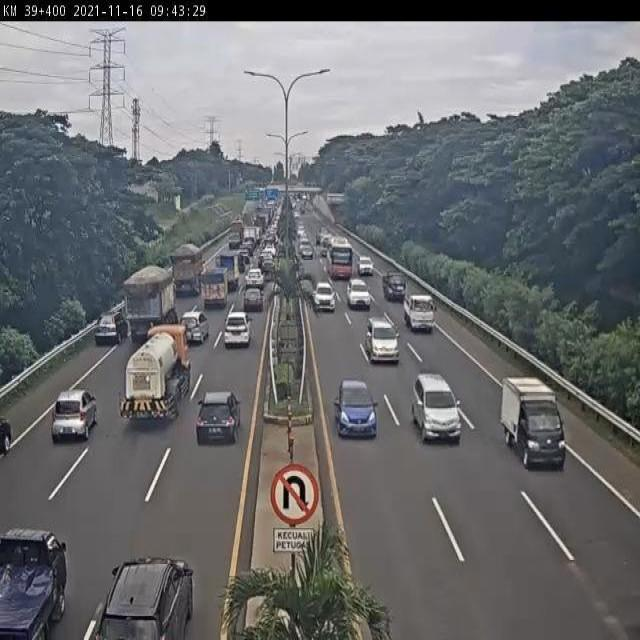Bus: (319, 233, 358, 284)
Car: (98, 541, 201, 640), (0, 509, 71, 640), (414, 365, 462, 458), (44, 384, 104, 450), (332, 377, 382, 442), (186, 386, 238, 444), (220, 305, 256, 356), (367, 316, 400, 369), (381, 265, 410, 313), (306, 282, 340, 318), (95, 307, 124, 345), (345, 276, 370, 320), (241, 286, 266, 316), (357, 246, 378, 276), (297, 236, 318, 262)
Truck: (494, 352, 579, 496), (122, 321, 196, 435), (110, 262, 176, 338), (154, 216, 207, 307), (398, 286, 447, 346), (222, 232, 262, 286), (198, 272, 236, 326)
